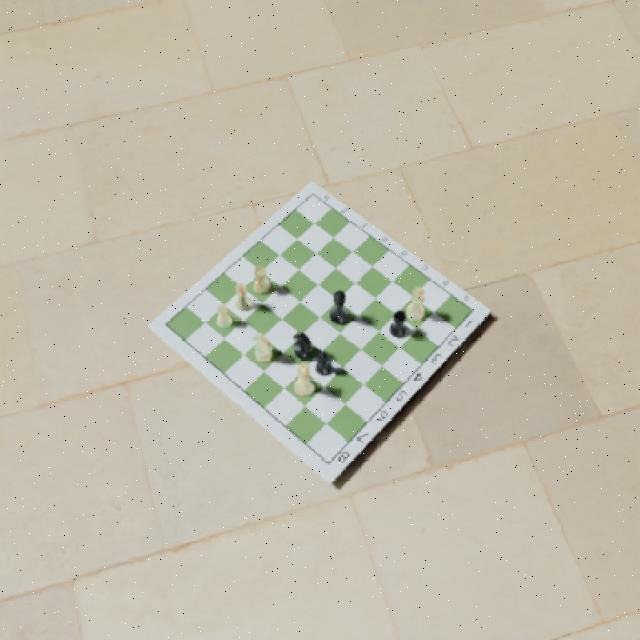black-king: (328, 289, 351, 325)
black-knight: (292, 331, 312, 362)
black-pawn: (314, 350, 334, 378)
black-rook: (388, 307, 408, 341)
white-bishop: (233, 282, 251, 314)
white-king: (404, 284, 428, 323)
white-knight: (250, 332, 274, 364)
white-pawn: (214, 303, 233, 329)
white-queen: (292, 361, 316, 397)
white-rook: (250, 262, 274, 296)
